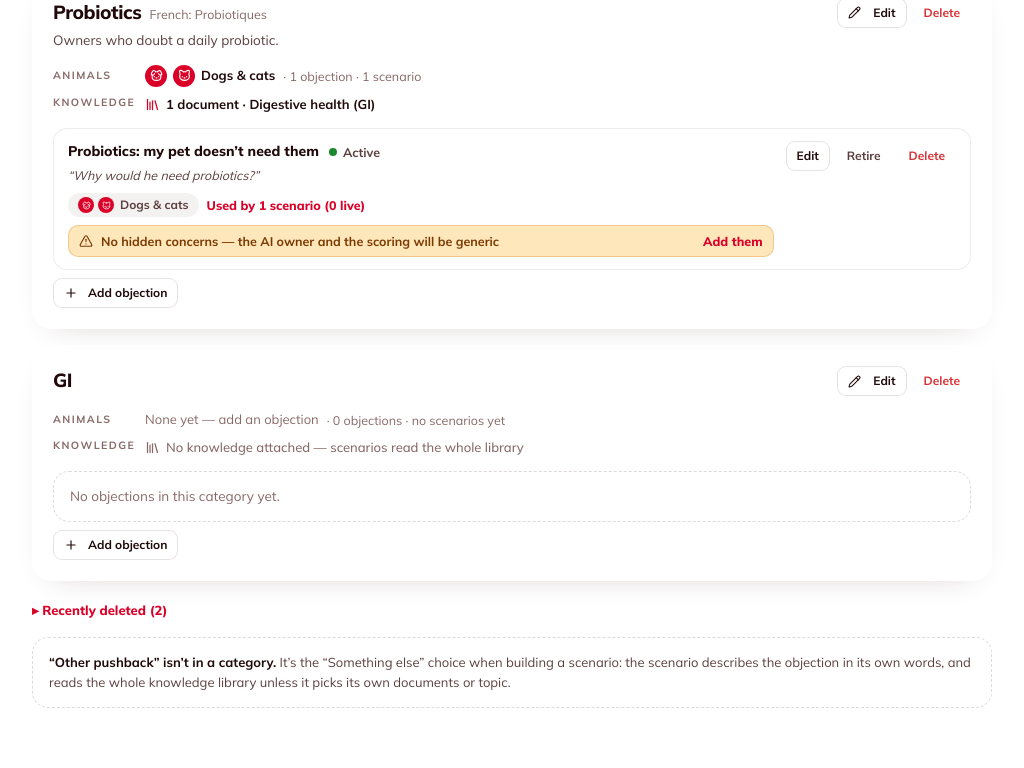
CategoriesScreen › adds an objection in the category it was opened from
(page scrolled)
Expected: the element "GI" is shown, 32,345 -> 992,581
Click the button with aria-label "Add an objection to GI" at (116, 544), box 53,530 -> 178,560
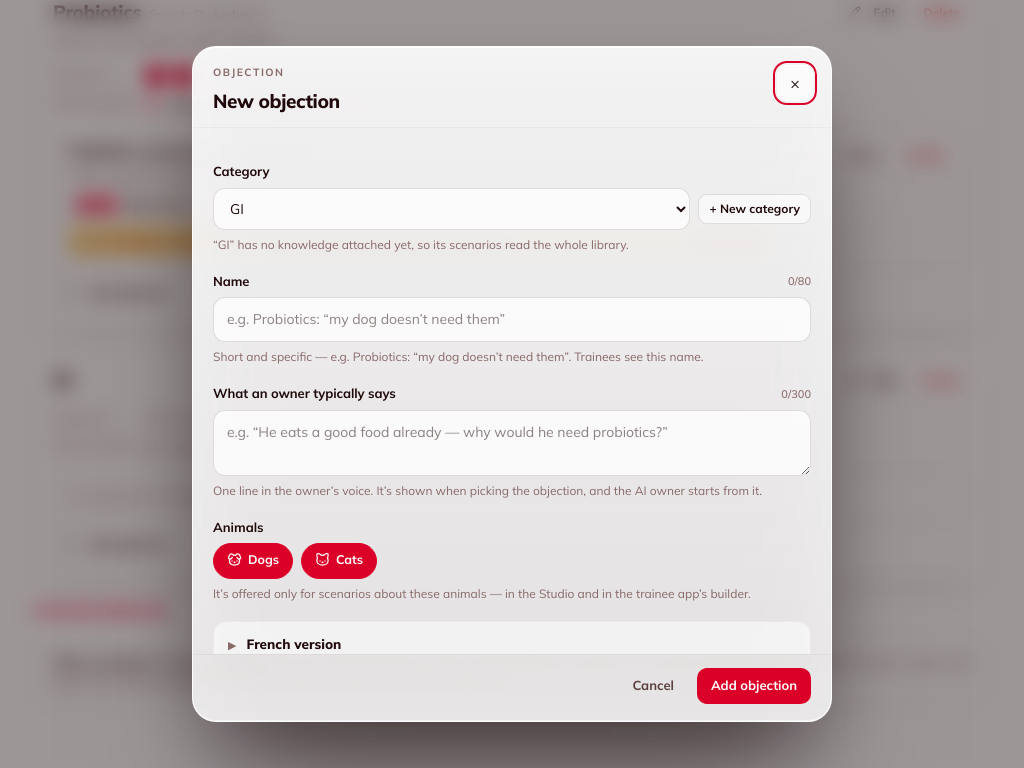
Result: the dropdown labelled "Category" shows "GI" at 213,188 -> 690,230
Click the button "Add objection" at (754, 686), box 697,668 -> 811,704
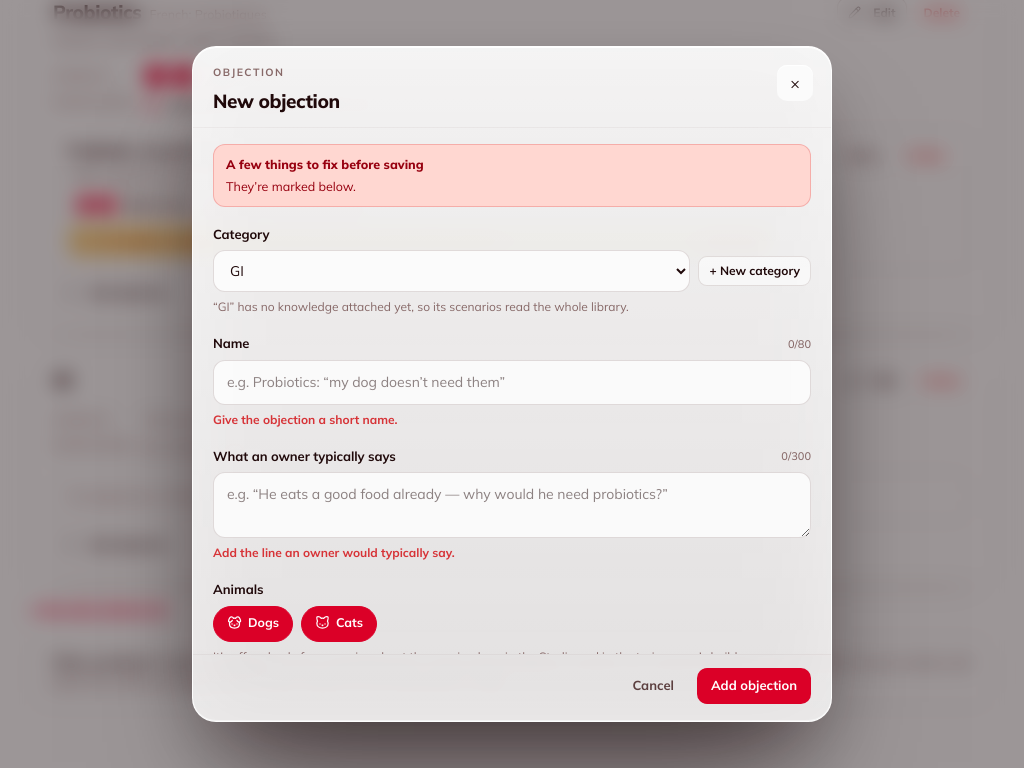
Result: the text "Give the objection a short name." is shown at 213,412 -> 398,427
Type "It’s just a sensitive stomach" into the field labelled "Name" at (512, 382), box 213,360 -> 811,405
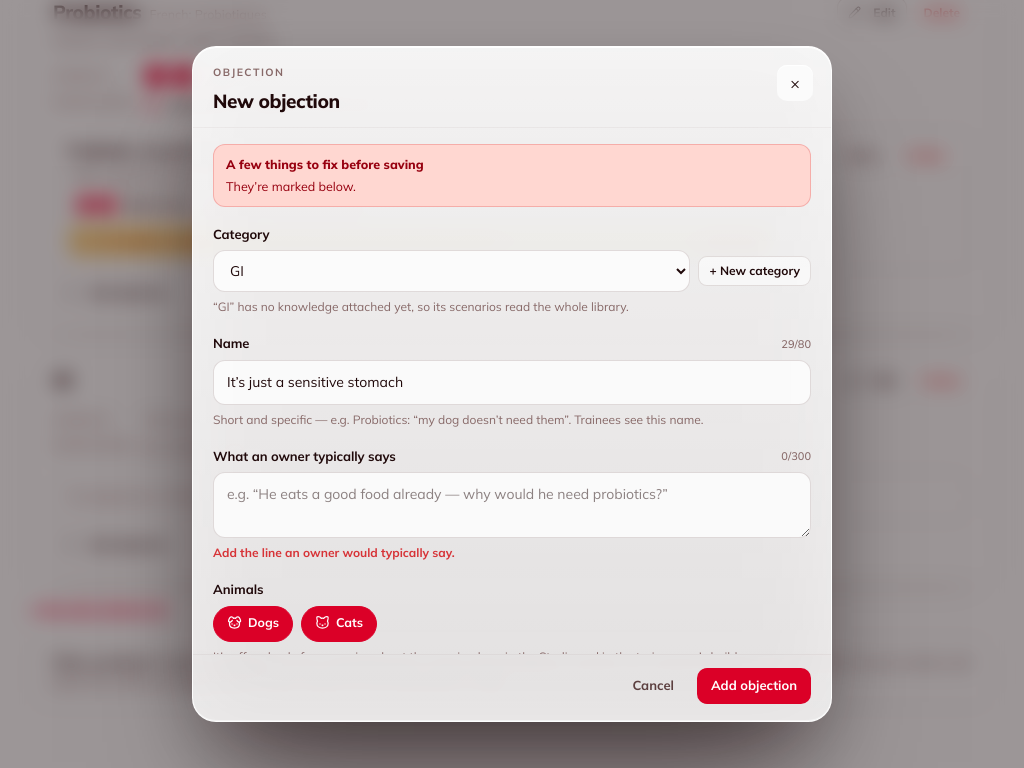
Replace the text in the text box labelled "What an owner typically says" with "“He’s always had a funny tummy.”" at (512, 505), box 213,472 -> 811,538
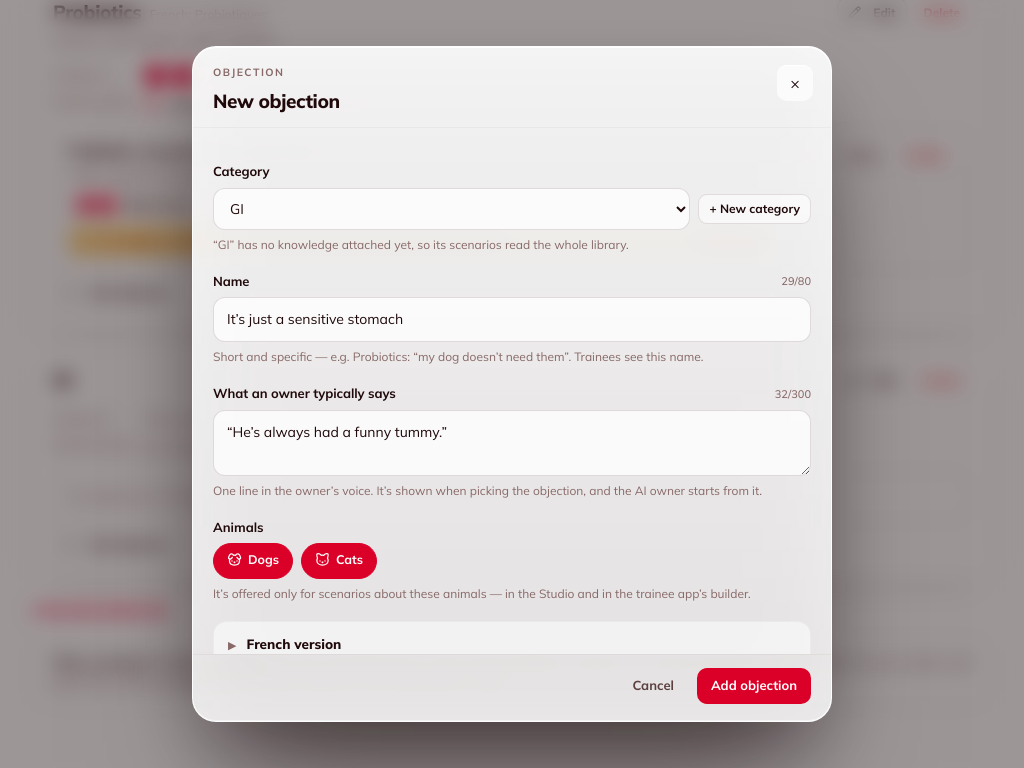
Click the button "Add objection" at (754, 686), box 697,668 -> 811,704
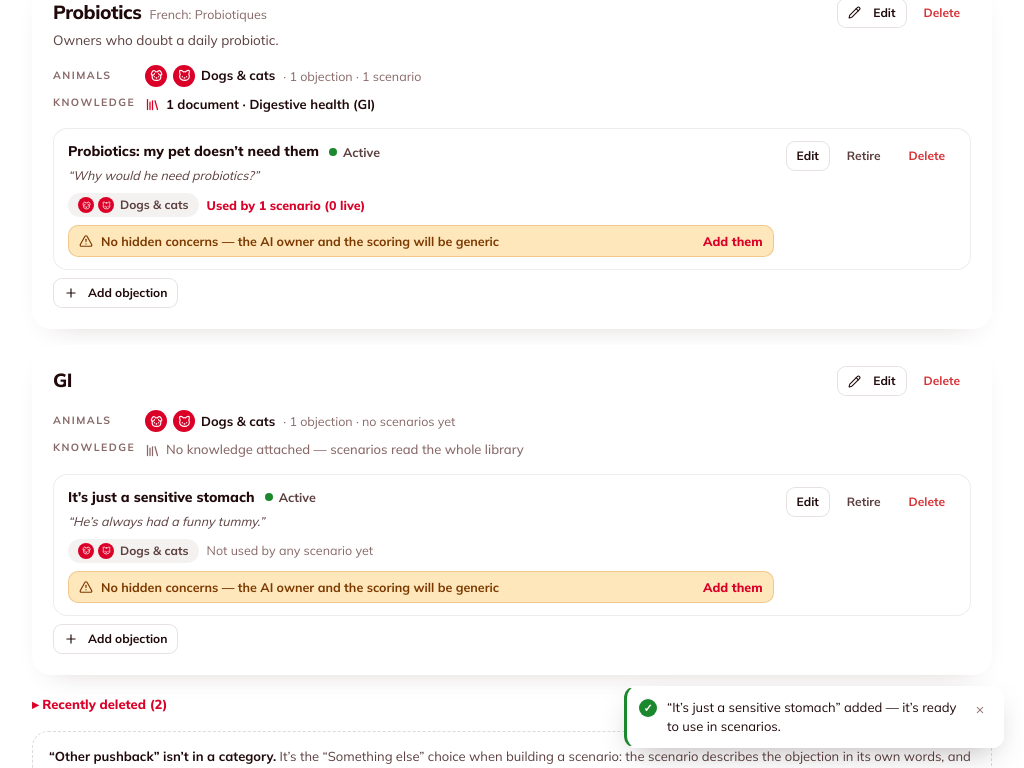
Result: the text "It’s just a sensitive stomach" is shown at 68,487 -> 255,508
